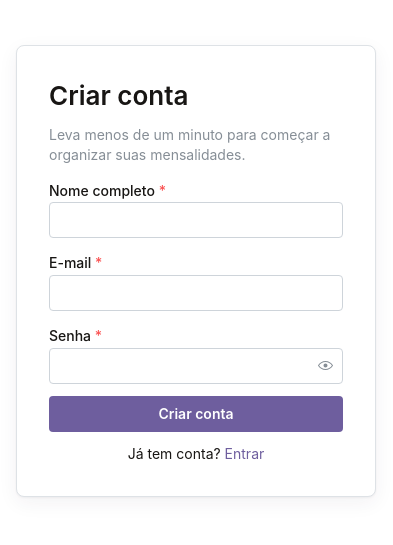
Test case: RegisterPage › bloqueia o envio com campos vazios e mostra os erros de validação
This screenshot has width=393, height=545.
Click the button "Criar conta" at (196, 414), box x1=49 y1=396 x2=343 y2=432
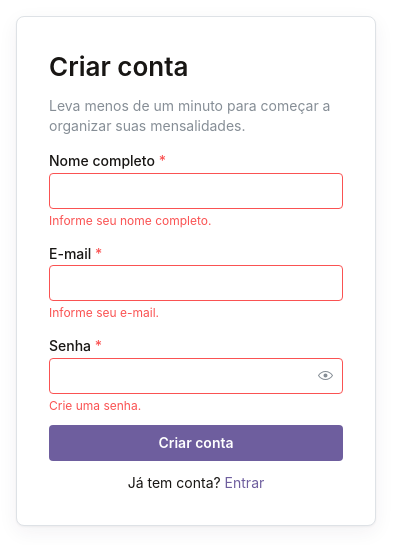
Result: the text "Informe seu nome completo." is shown at x1=49 y1=213 x2=211 y2=228
Result: the text "Informe seu e-mail." is shown at x1=49 y1=305 x2=159 y2=320
Result: the text "Crie uma senha." is shown at x1=49 y1=398 x2=141 y2=413
